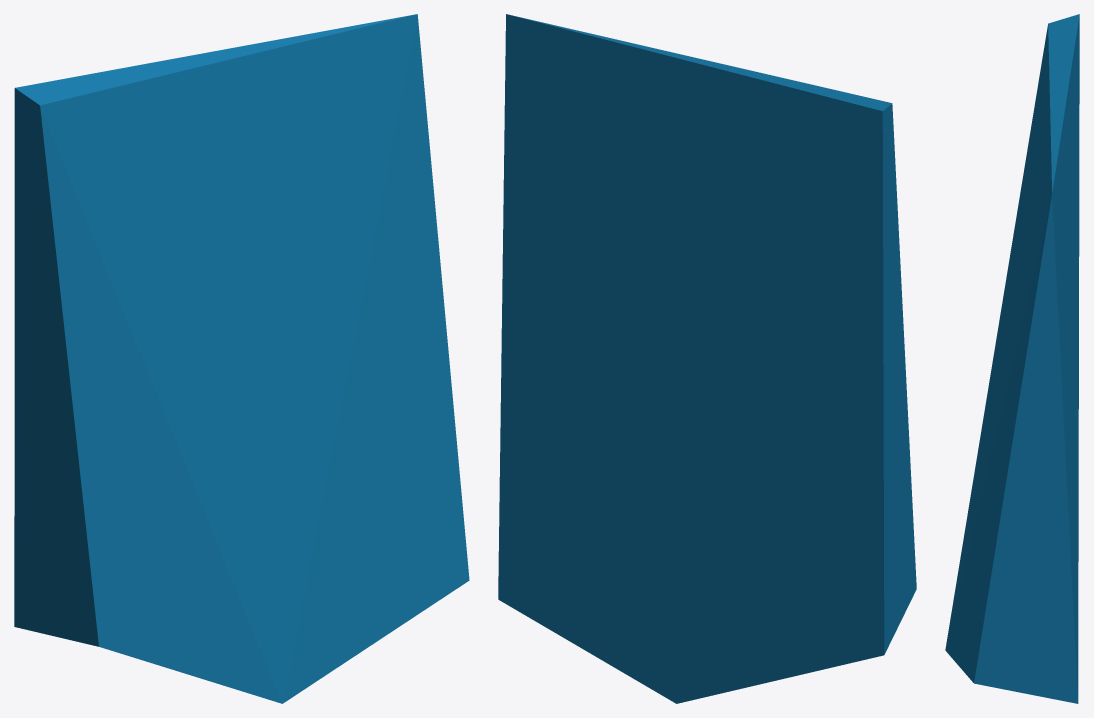
Rendered from Teja2PivoteadaBase.fbx.
The picture shows the model from 3 angles, left to right: view 1: azimuth 30°, elevation 25°; view 2: azimuth 150°, elevation 25°; view 3: azimuth 270°, elevation 25°; orthographic projection. The views are drawn at different scales.
Visible parts, largest first — view 1: Teja2_LOD1.001; view 2: Teja2_LOD1.001; view 3: Teja2_LOD1.001.
Boxes of the visible parts, box(x1,y1,x2,y2) form: Teja2_LOD1.001: box(14, 14, 469, 703); Teja2_LOD1.001: box(498, 14, 916, 703); Teja2_LOD1.001: box(945, 14, 1079, 703).
Bounding box in the file's own units: 18.81 × 88.99 × 58.1.
